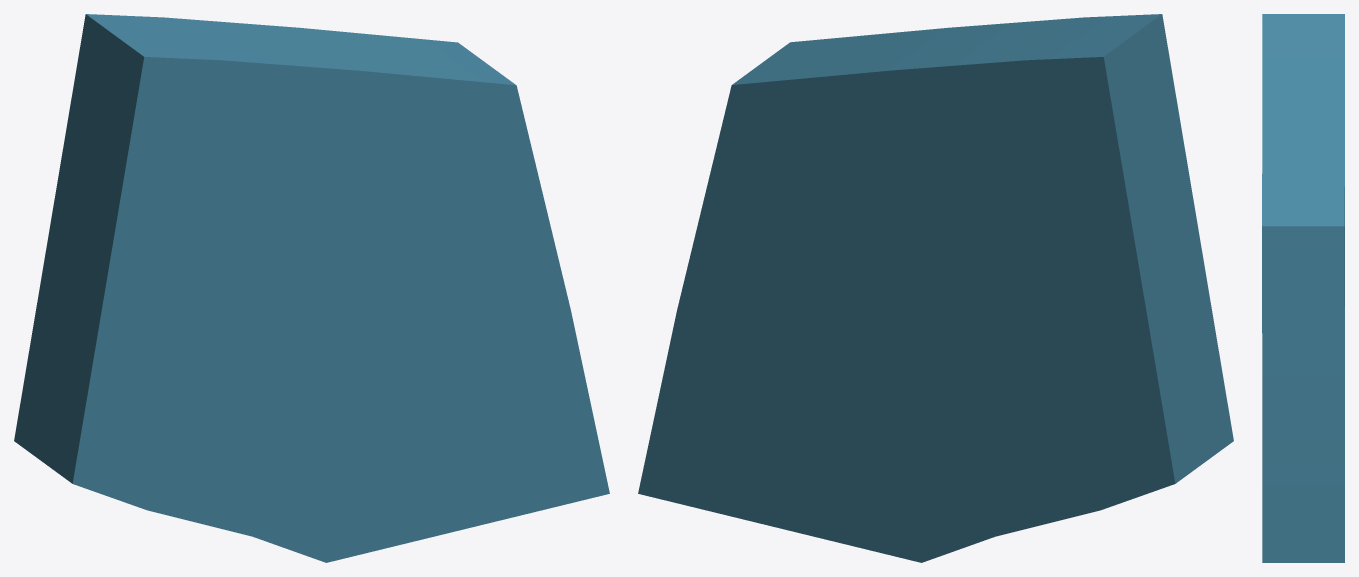
Rendered from NexusA_Trigger_30.fbx.
3 renders of one model, left to right at view 1: azimuth 30°, elevation 25°; view 2: azimuth 150°, elevation 25°; view 3: azimuth 270°, elevation 25°, orthographic. The views are drawn at different scales.
Parts seen in each view (by area): view 1: pCube11; view 2: pCube11; view 3: pCube11.
Part boxes in pixels (x1,y1,x2,y2): pCube11: (14,14,609,562); pCube11: (638,14,1233,562); pCube11: (1262,14,1344,562).
Bounding box in the file's own units: 64.32 × 62.97 × 12.17.
